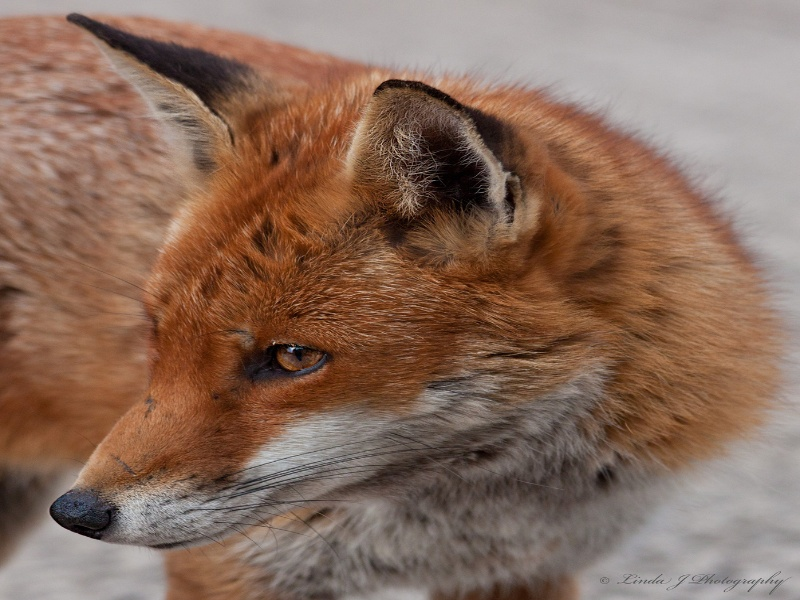fox: (47, 8, 774, 567)
